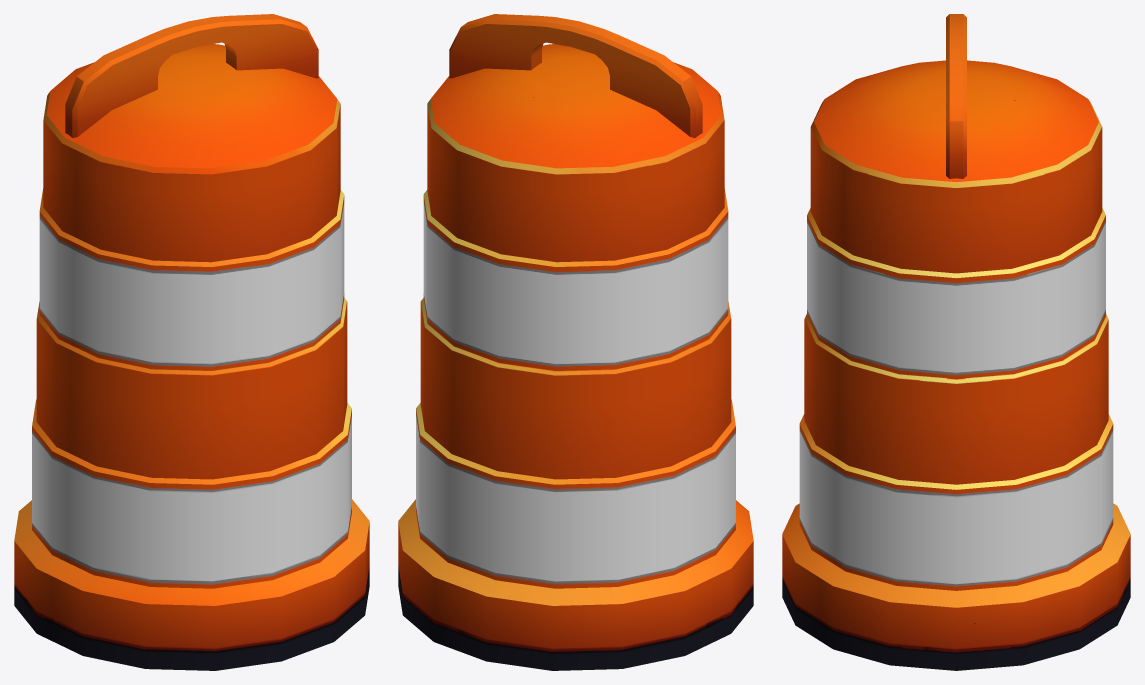
3 views of the same model, side by side, from view 1: azimuth 30°, elevation 25°; view 2: azimuth 150°, elevation 25°; view 3: azimuth 270°, elevation 25° (orthographic). The views are drawn at different scales.
Visible parts, largest first — view 1: CylinderBarrier; view 2: CylinderBarrier; view 3: CylinderBarrier.
Boxes of the visible parts, <box> form: CylinderBarrier: <box>14,14,369,670</box>; CylinderBarrier: <box>398,14,753,670</box>; CylinderBarrier: <box>782,14,1130,670</box>.
Size of the model in its own units: 100 by 100 by 176.
1 material, 1 textured.
